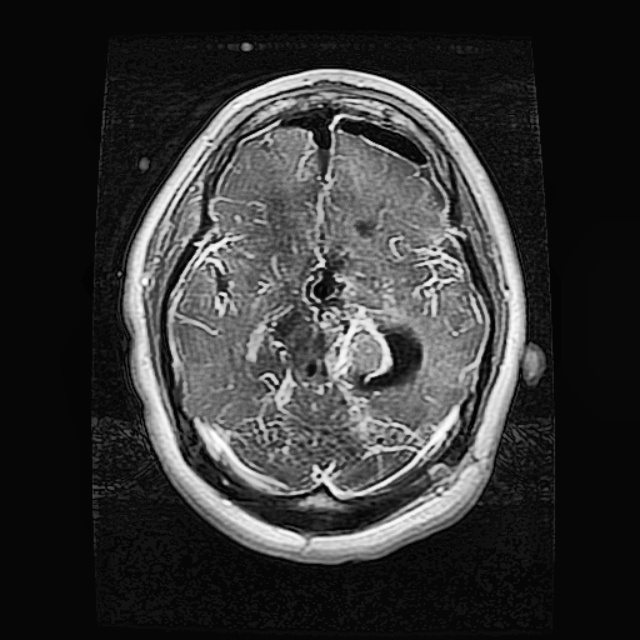Meningioma: (297, 243, 428, 395)
